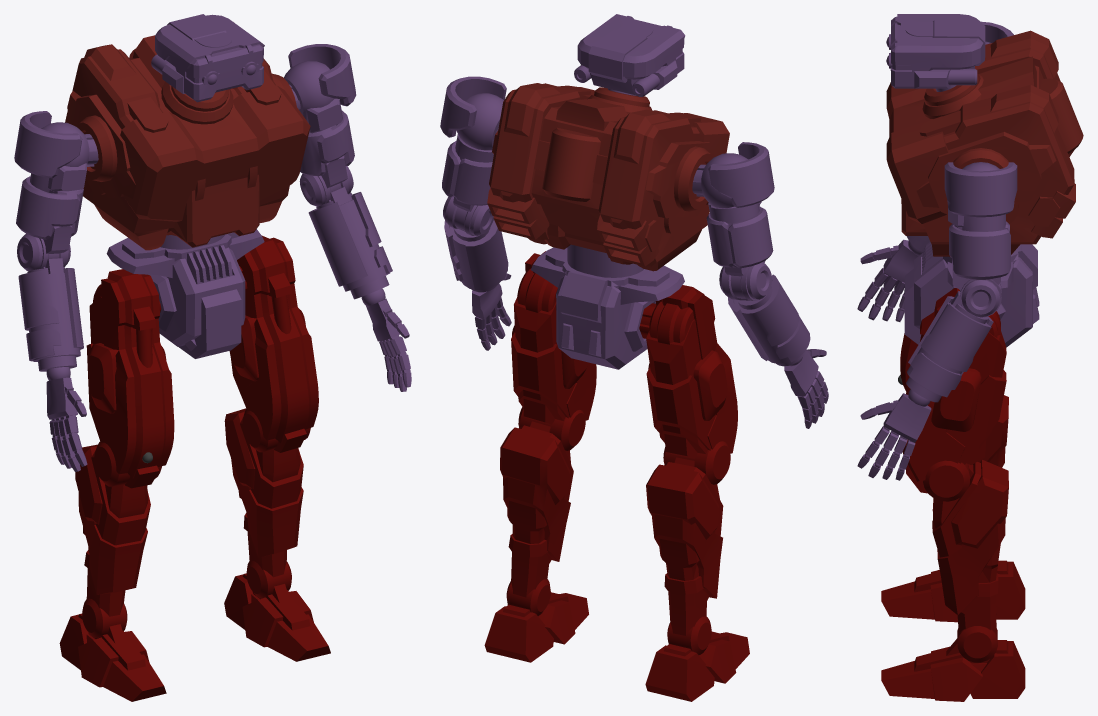
The model's file is chitti.glb.
3 renders of one model, left to right at view 1: azimuth 30°, elevation 25°; view 2: azimuth 150°, elevation 25°; view 3: azimuth 270°, elevation 25°, orthographic. The views are drawn at different scales.
Parts seen in each view (by area): view 1: 1001, 1004, 1004.001, 1003, 1003.001, 1002, 1002.001; view 2: 1001, 1004, 1004.001, 1003, 1003.001, 1002, 1002.001; view 3: 1001, 1004.001, 1003.001, 1002.001, 1002, 1004, 1003.
Boxes of the visible parts, x1,y1,x2,y2 form: 1001: (65,35,310,250); 1004: (59,269,174,701); 1004.001: (224,235,330,661); 1003: (14,111,98,471); 1003.001: (284,44,411,391); 1002: (106,229,264,358); 1002.001: (151,14,264,102); 1001: (487,83,729,271); 1004: (639,285,749,701); 1004.001: (484,251,596,662); 1003: (692,142,828,428); 1003.001: (440,76,511,350); 1002: (530,244,684,369); 1002.001: (574,14,685,96); 1001: (886,30,1083,256); 1004.001: (881,288,1025,701); 1003.001: (857,162,1017,480); 1002.001: (886,14,985,91); 1002: (904,242,1039,347); 1004: (881,333,1025,622); 1003: (857,21,1013,321).
Bounding box in the file's own units: 5.68 × 9.52 × 3.15.
